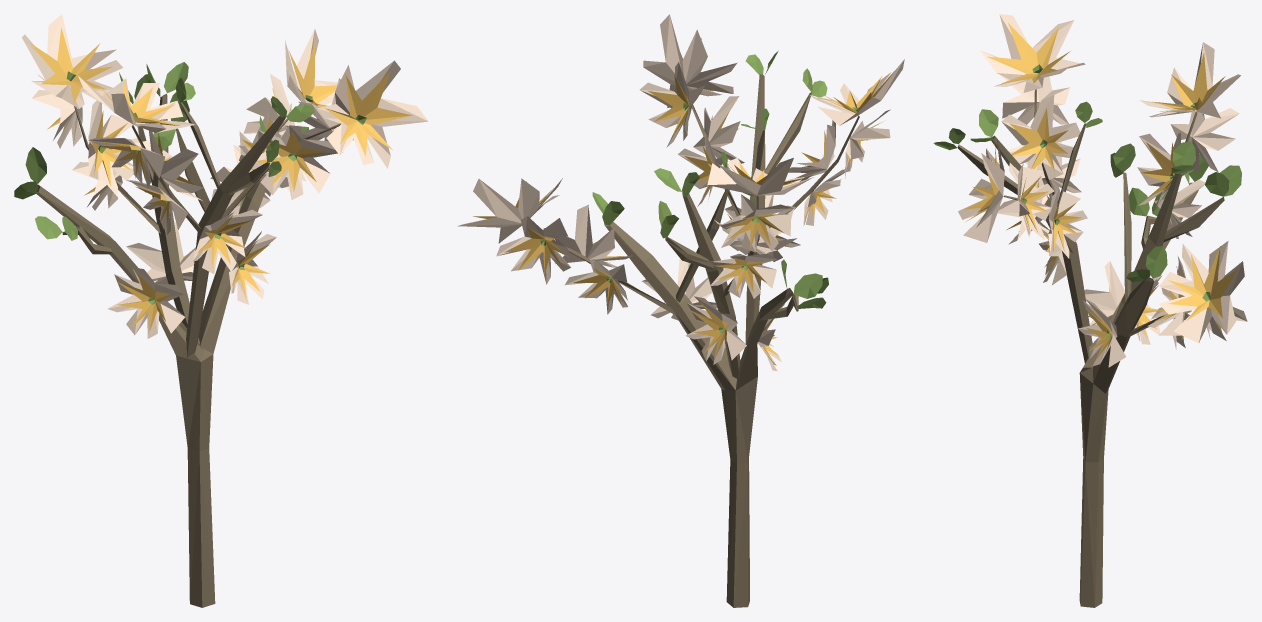
File: Cherry_3_1.fbx
3 views of the same model, side by side, from view 1: azimuth 30°, elevation 25°; view 2: azimuth 150°, elevation 25°; view 3: azimuth 270°, elevation 25° (orthographic). The views are drawn at different scales.
Visible parts, largest first — view 1: Cherry_3_1; view 2: Cherry_3_1; view 3: Cherry_3_1.
Boxes of the visible parts, x1,y1,x2,y2 form: Cherry_3_1: (14,14,428,607); Cherry_3_1: (457,14,904,607); Cherry_3_1: (933,14,1247,607).
Size of the model in its own units: 210 by 317 by 170.
